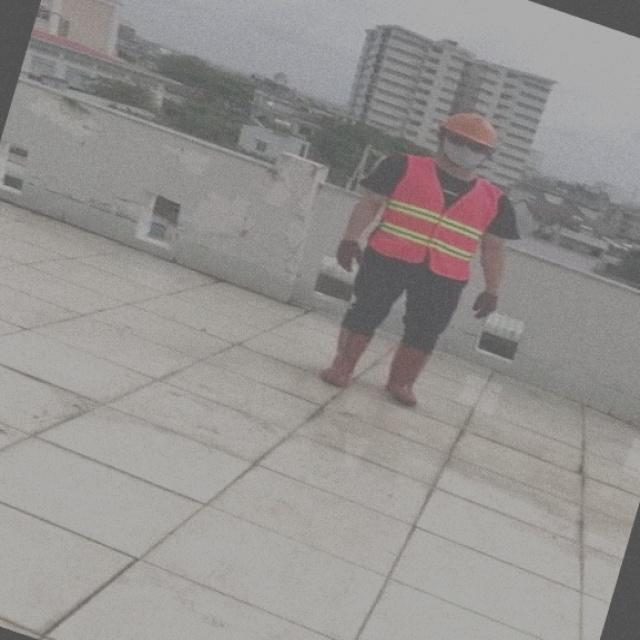helmet: (435, 109, 501, 144)
safety_vest: (362, 158, 510, 272)
